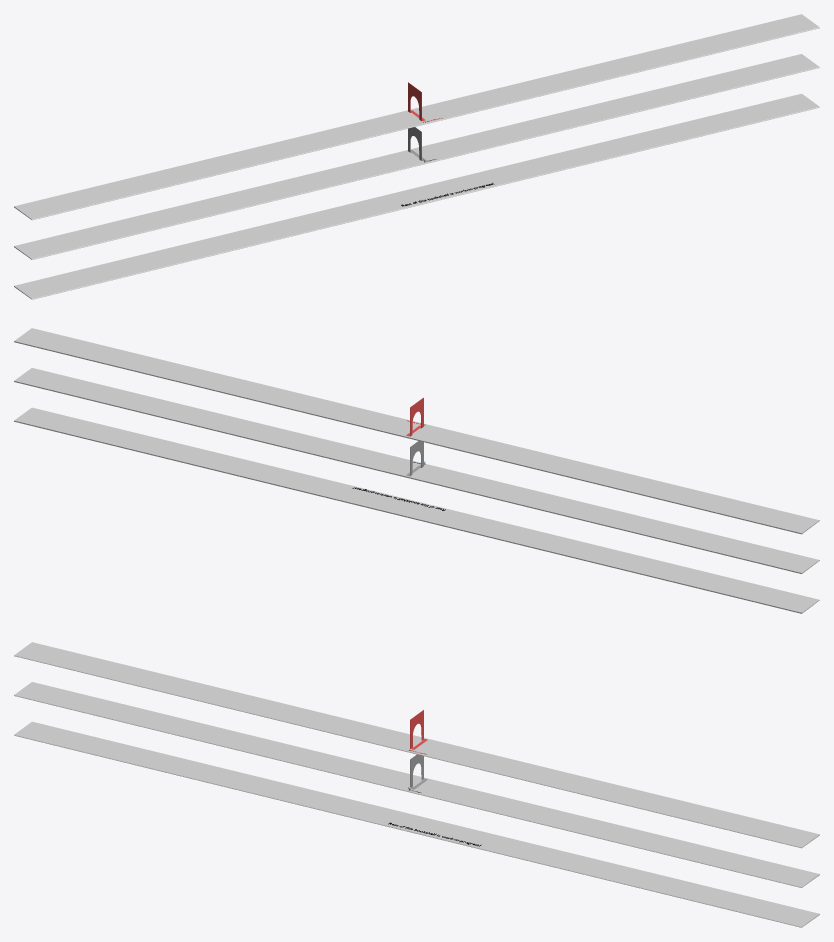
3 renders of one model, top to bottom at view 1: azimuth 30°, elevation 25°; view 2: azimuth 150°, elevation 25°; view 3: azimuth 330°, elevation 25°, orthographic.
Parts seen in each view (by area): view 1: bookshelf; view 2: bookshelf; view 3: bookshelf.
Part boxes in pixels (left/top/right/bottom): bookshelf: left=14, top=14, right=819, bottom=299; bookshelf: left=14, top=328, right=819, bottom=613; bookshelf: left=14, top=642, right=819, bottom=927.
Bounding box in the file's own units: 51.55 × 6.85 × 2.05.
10 materials, 1 textured.
